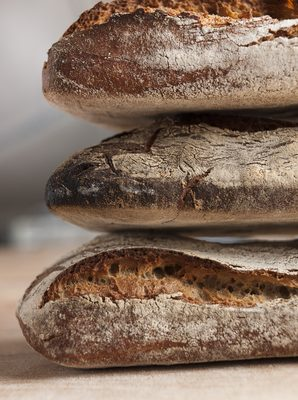sushi: (17, 239, 298, 369), (40, 0, 298, 125), (42, 116, 298, 234)
